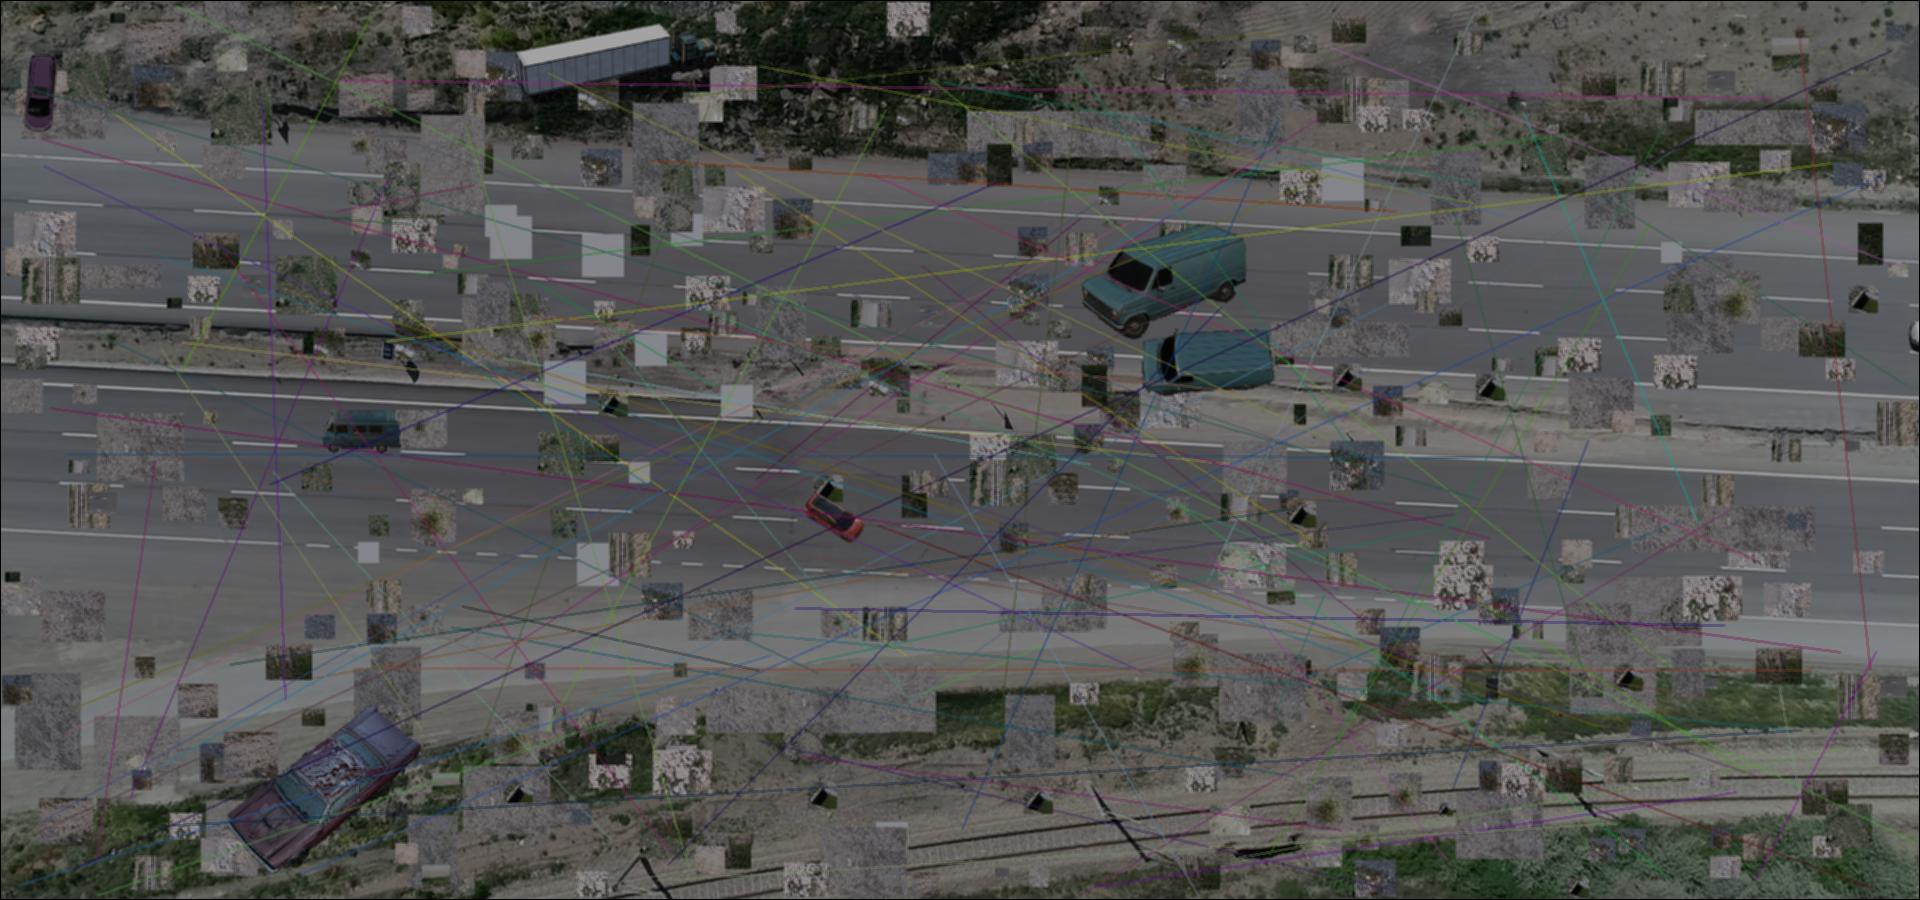arac: (227, 700, 422, 873), (1079, 220, 1247, 339), (512, 21, 722, 104), (1140, 327, 1276, 396), (321, 410, 403, 453), (18, 51, 58, 132), (804, 490, 864, 542)
